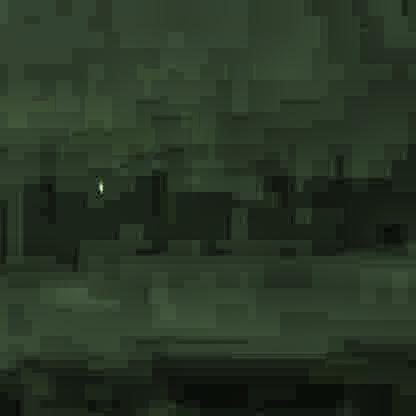golfball: (95, 177, 102, 188)
